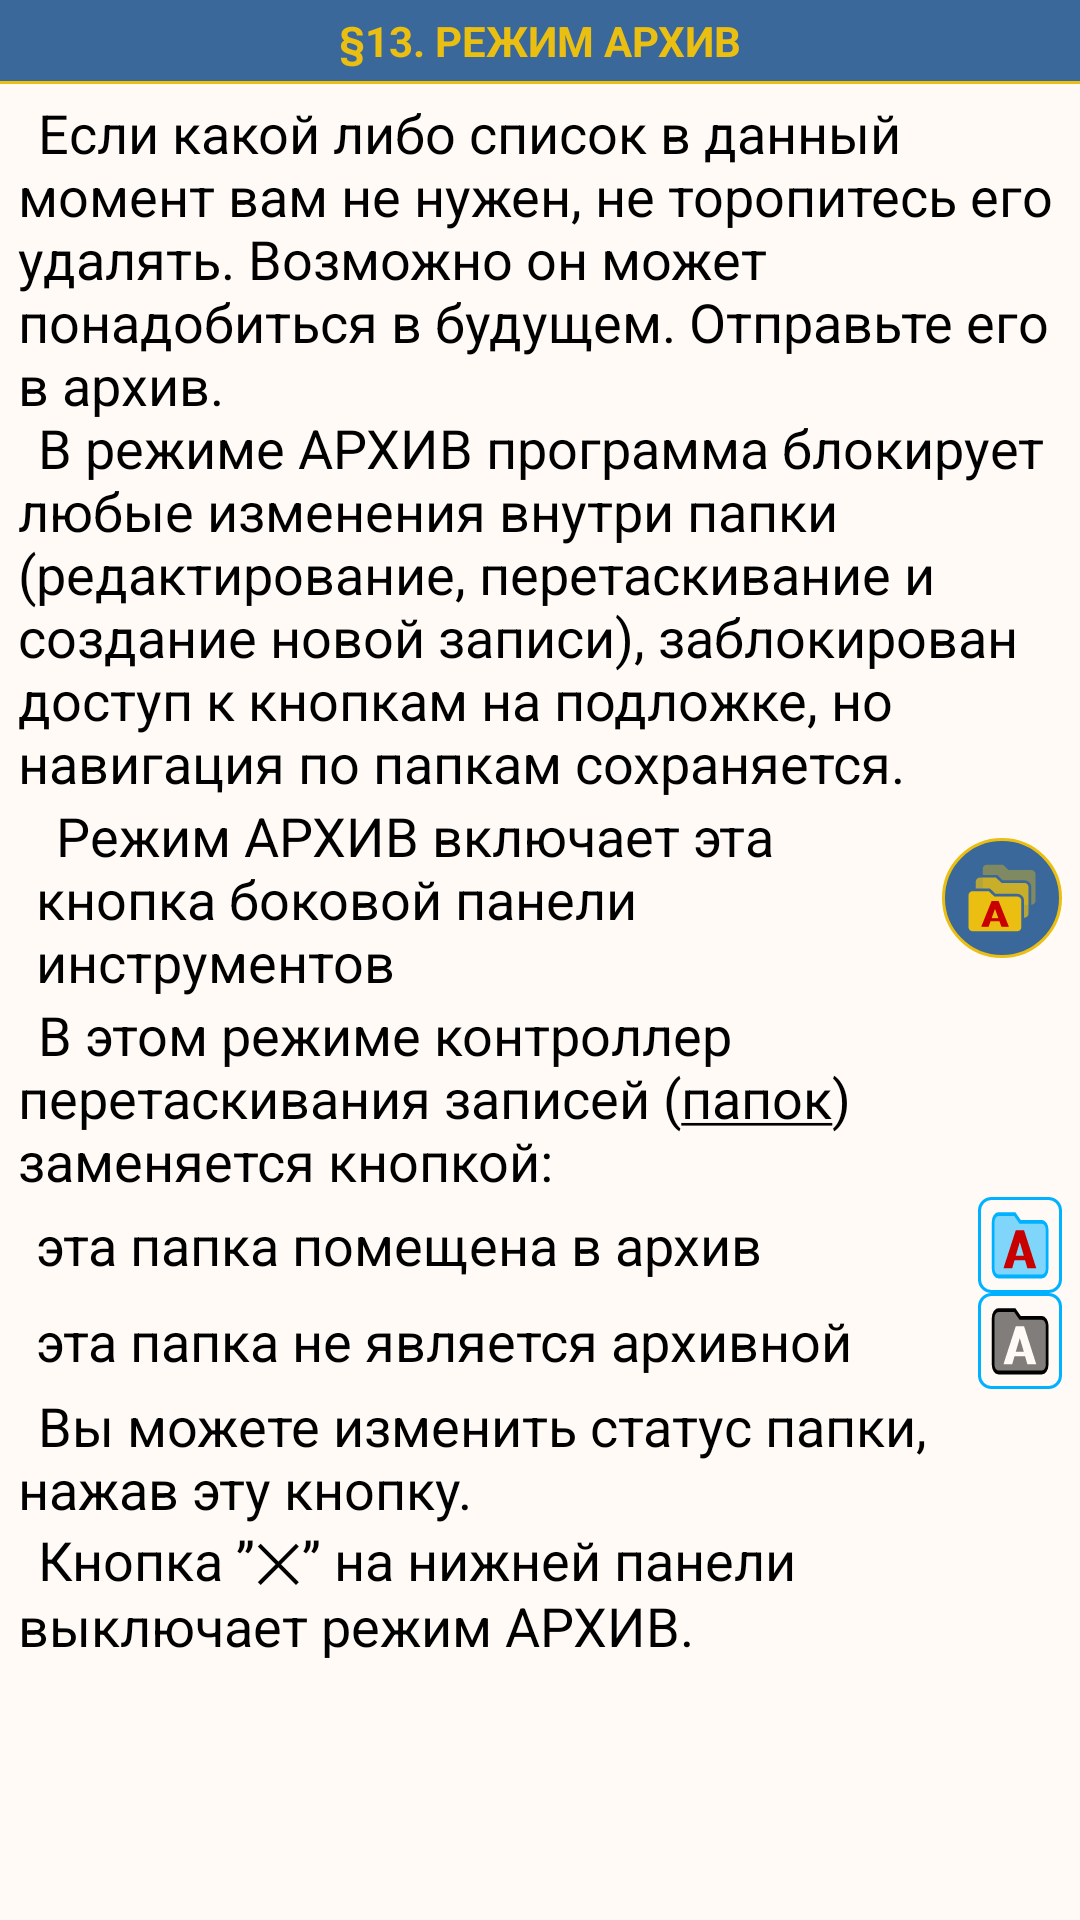

Icon click points for this 1080 × 1920 phone screenshot, format point (x, y):
archive: point (1020, 1245)
archive mode: point (1002, 898)
